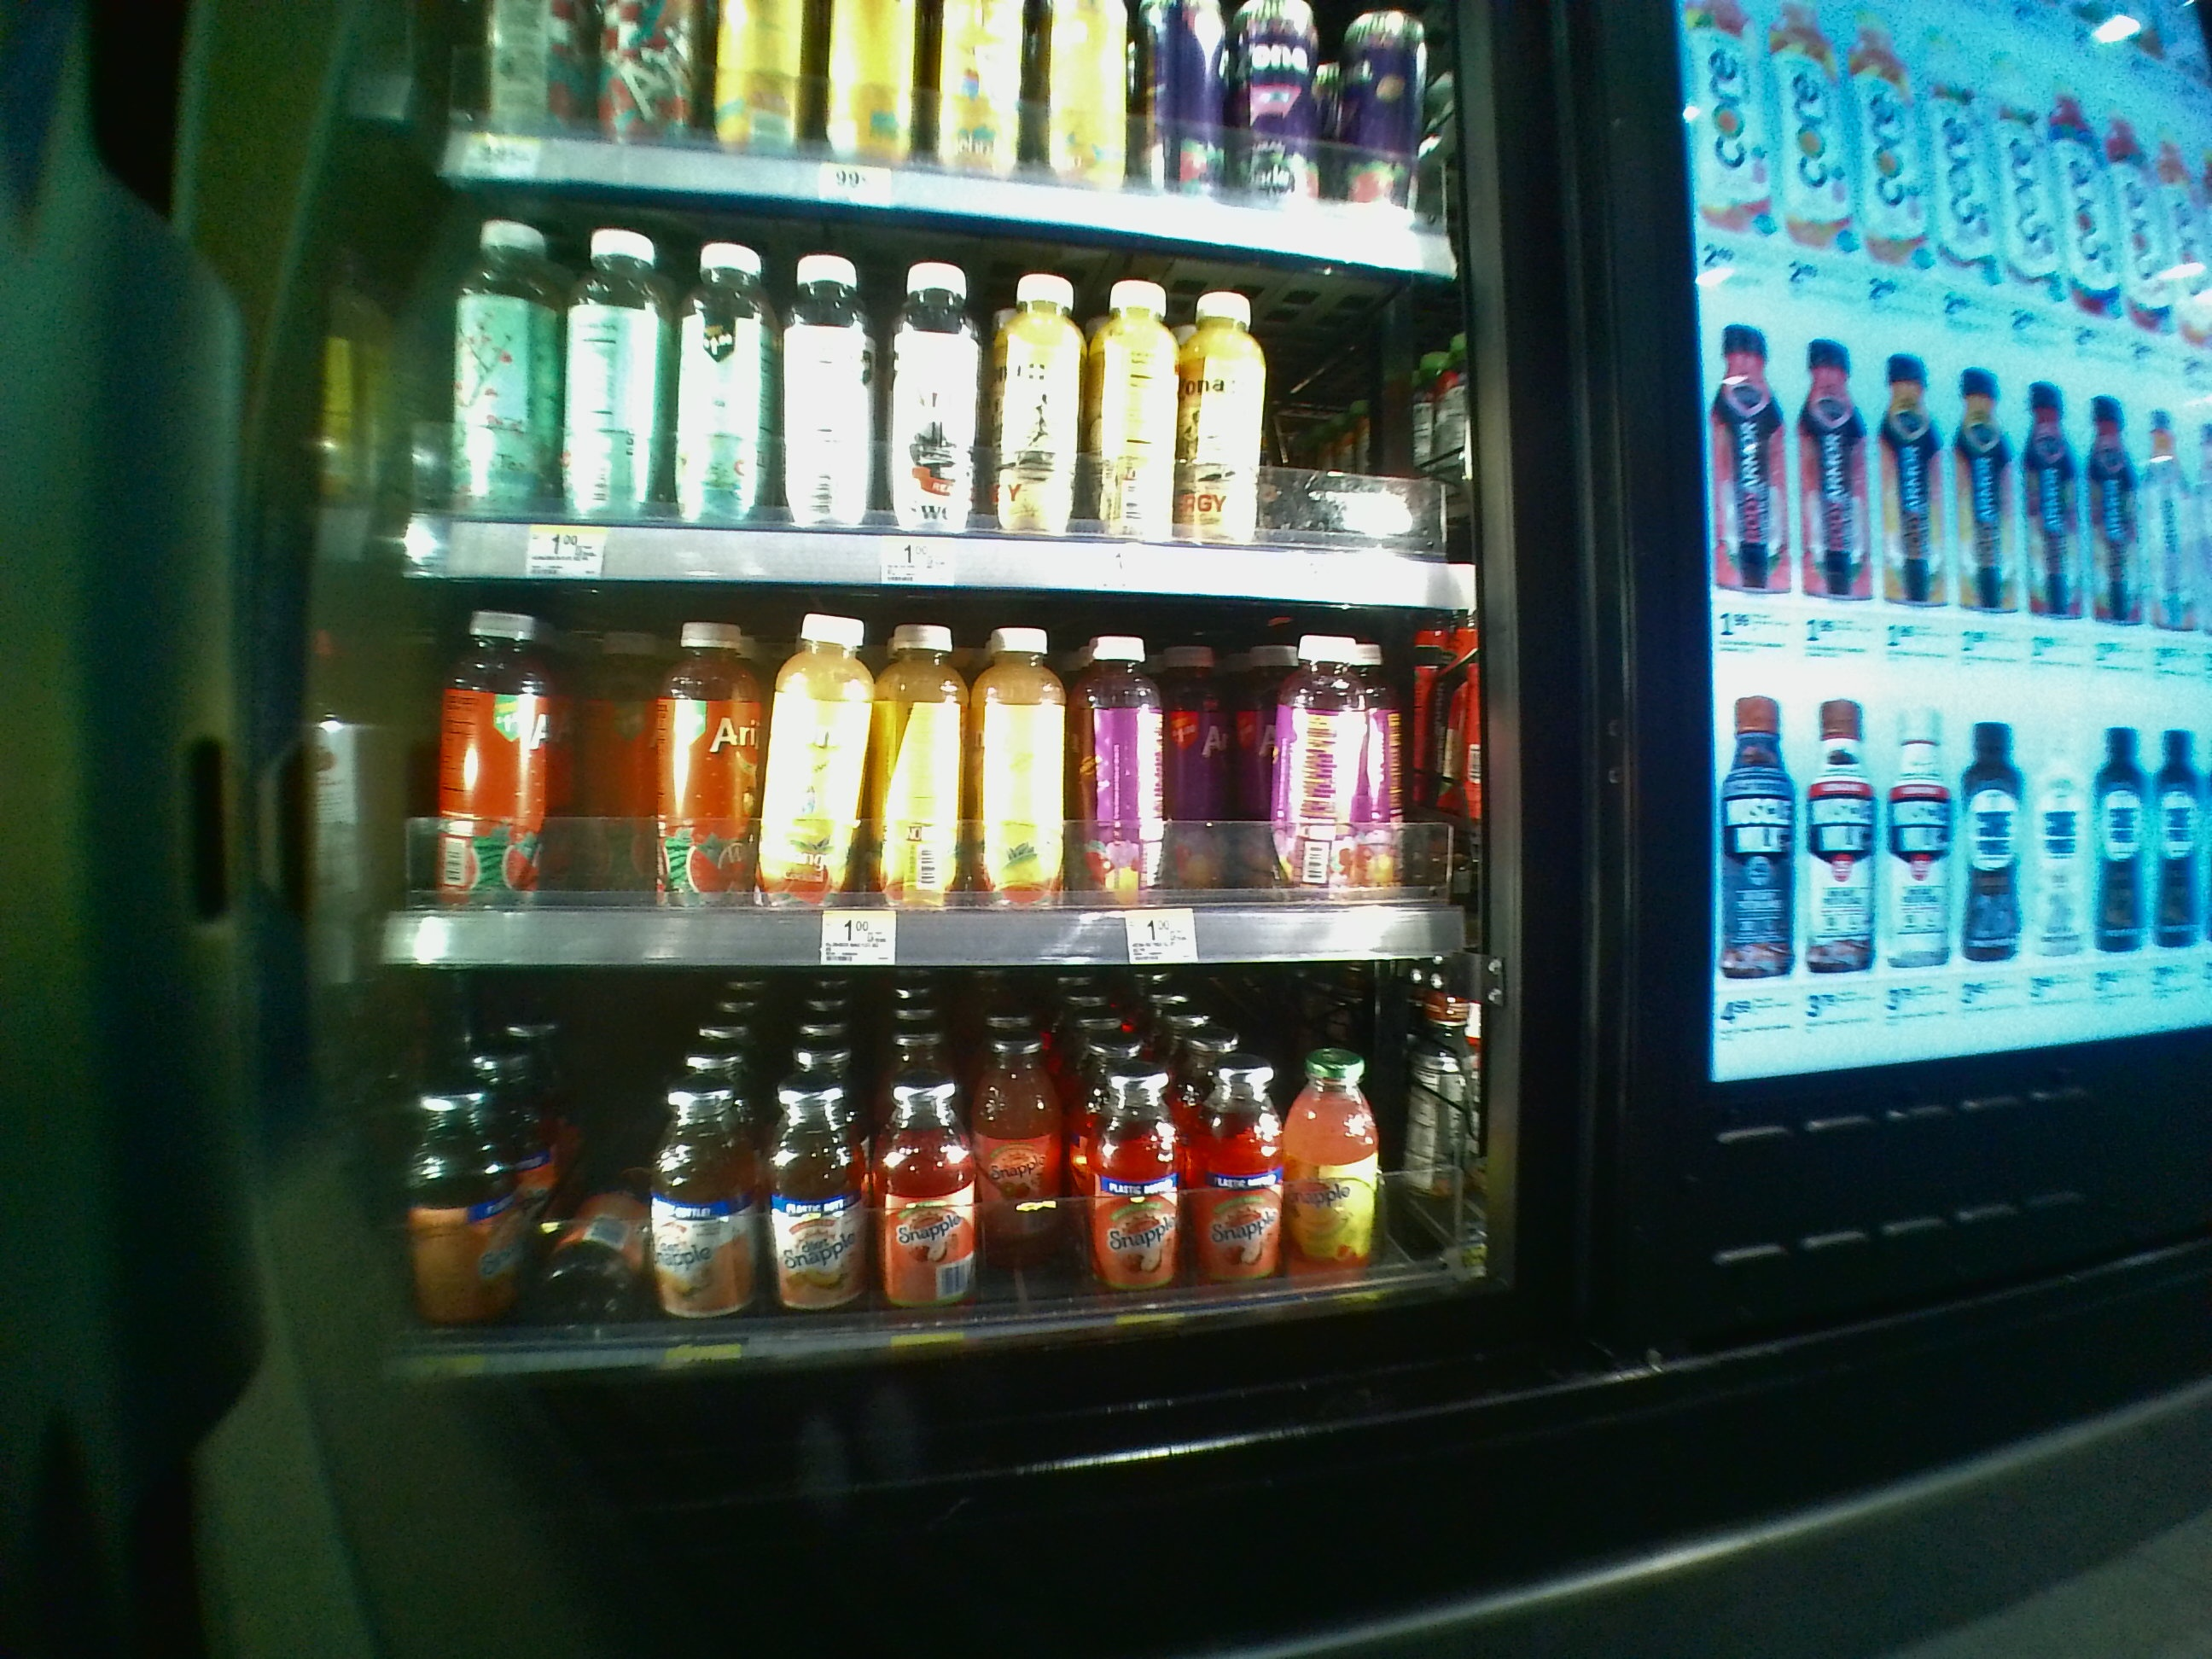shelf: (394, 978, 1480, 1382), (404, 192, 1475, 586), (394, 601, 1479, 958)
